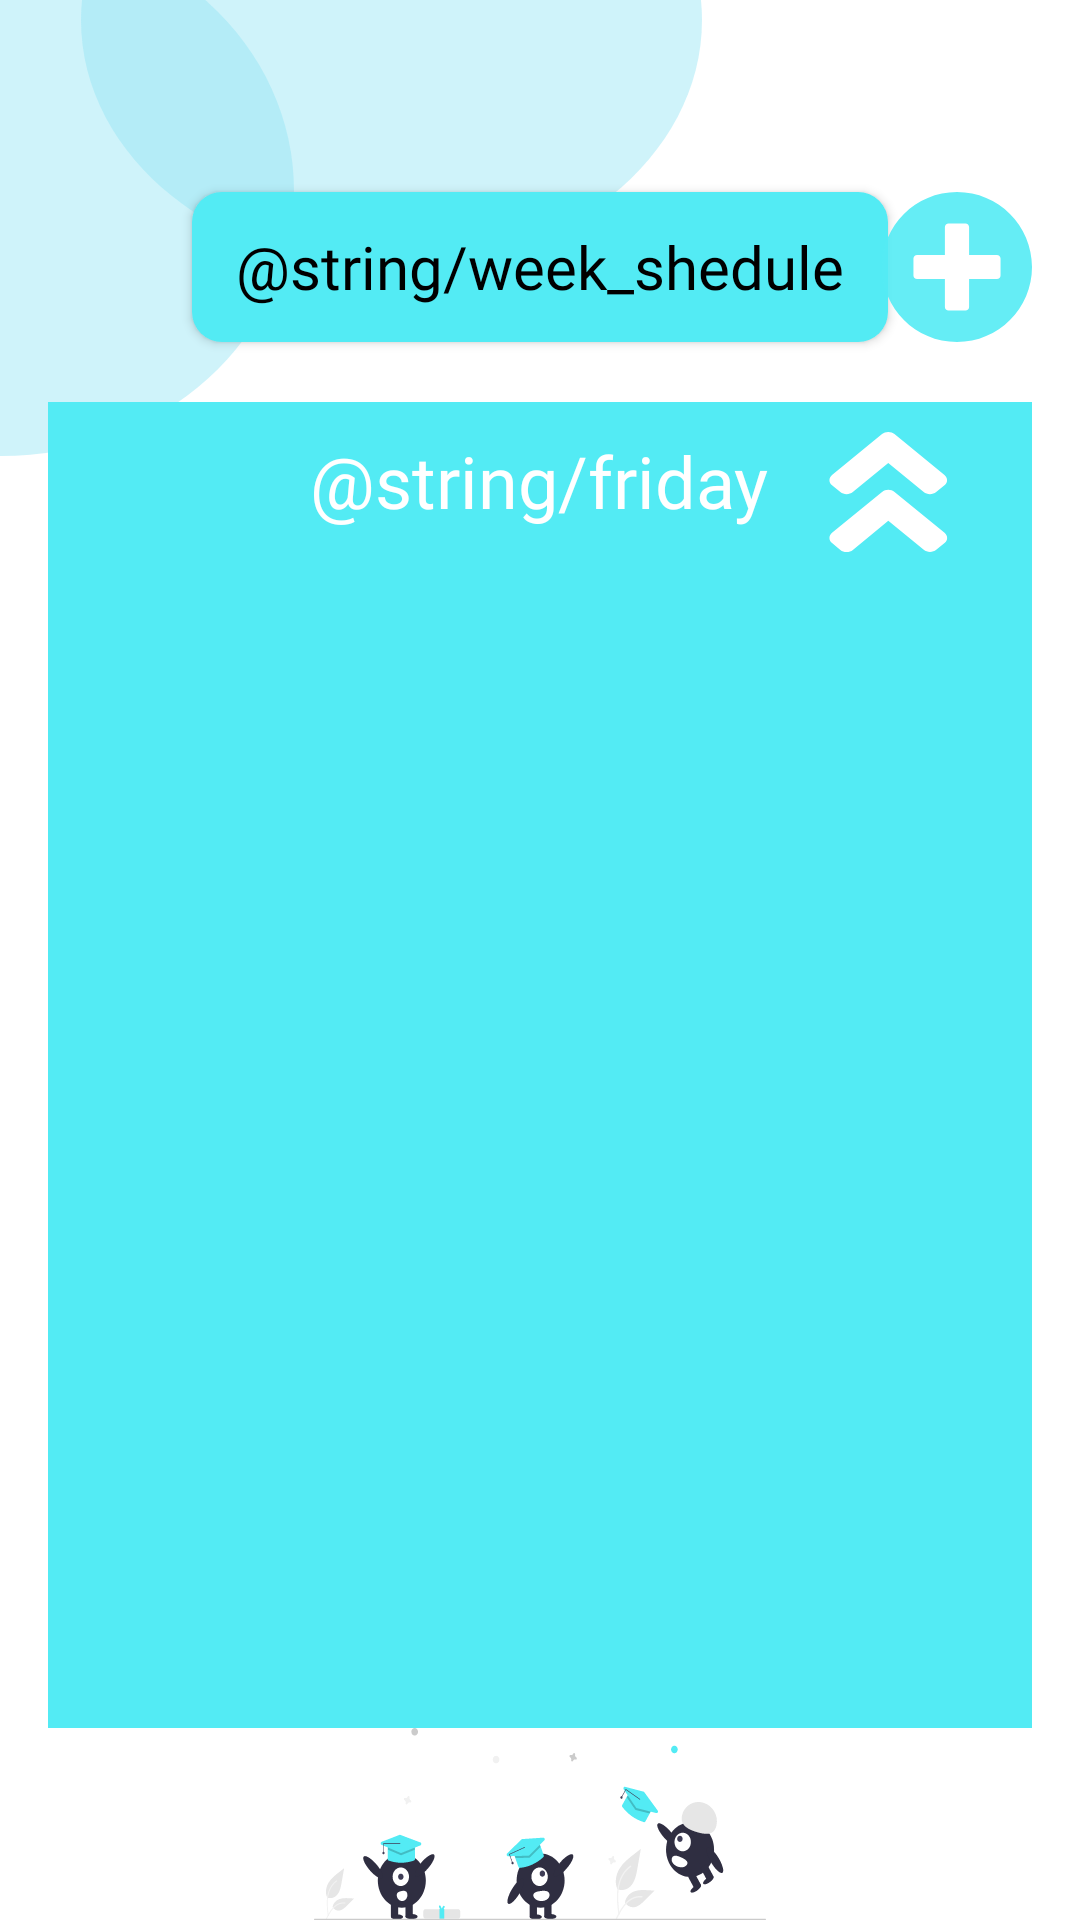

Where to tap for icons on this 1080w x 1920h app screen, as (x=x, y=y):
add botton: (x=957, y=267)
higher: (x=888, y=492)
